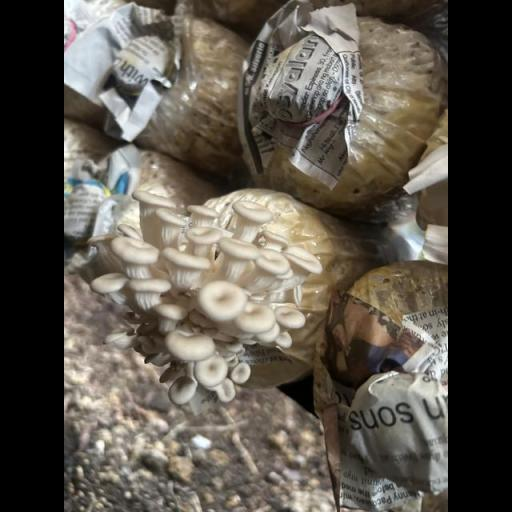White Oyster Mushroom: (80, 180, 330, 422)
